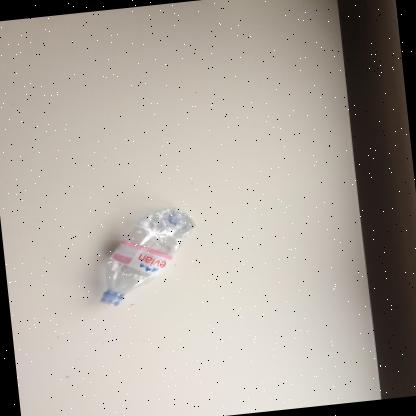Clear plastic bottle: (100, 207, 196, 305)
